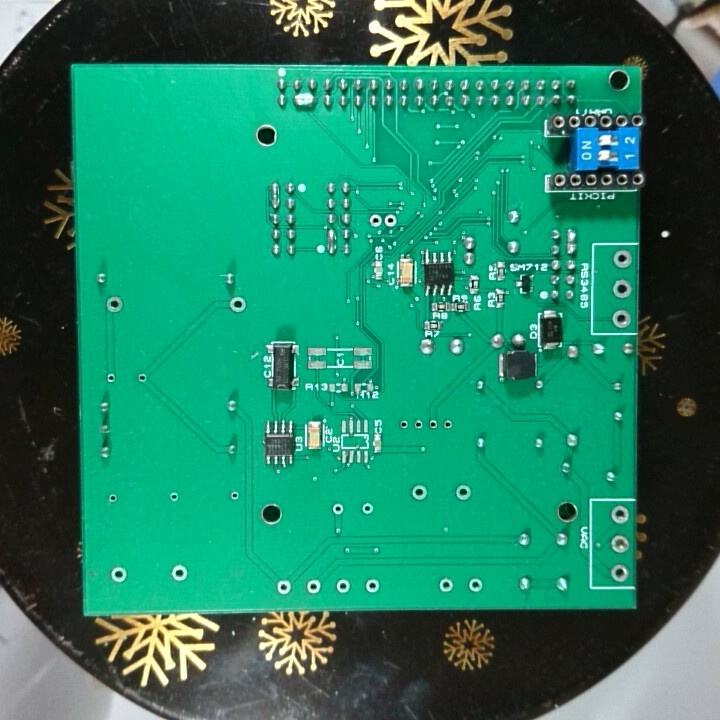F: (611, 247, 634, 272), (169, 559, 189, 585), (108, 563, 130, 586), (609, 560, 630, 584), (611, 278, 633, 300), (104, 293, 125, 316), (408, 482, 430, 503), (453, 481, 474, 503), (610, 308, 632, 329), (227, 295, 248, 316), (362, 575, 383, 596), (465, 575, 486, 595), (609, 533, 627, 556), (437, 574, 456, 595), (610, 505, 629, 526), (274, 576, 293, 596), (304, 576, 323, 596), (330, 500, 347, 519), (334, 577, 351, 595), (359, 500, 376, 518), (226, 486, 242, 505), (367, 212, 383, 230), (134, 369, 150, 387), (383, 211, 397, 230), (105, 489, 119, 508), (439, 416, 455, 432), (411, 417, 426, 432), (104, 369, 118, 385), (166, 489, 182, 503), (397, 417, 411, 432), (426, 417, 439, 433)
P: (291, 91, 317, 112), (324, 226, 339, 258), (565, 225, 580, 257), (268, 180, 282, 212)
